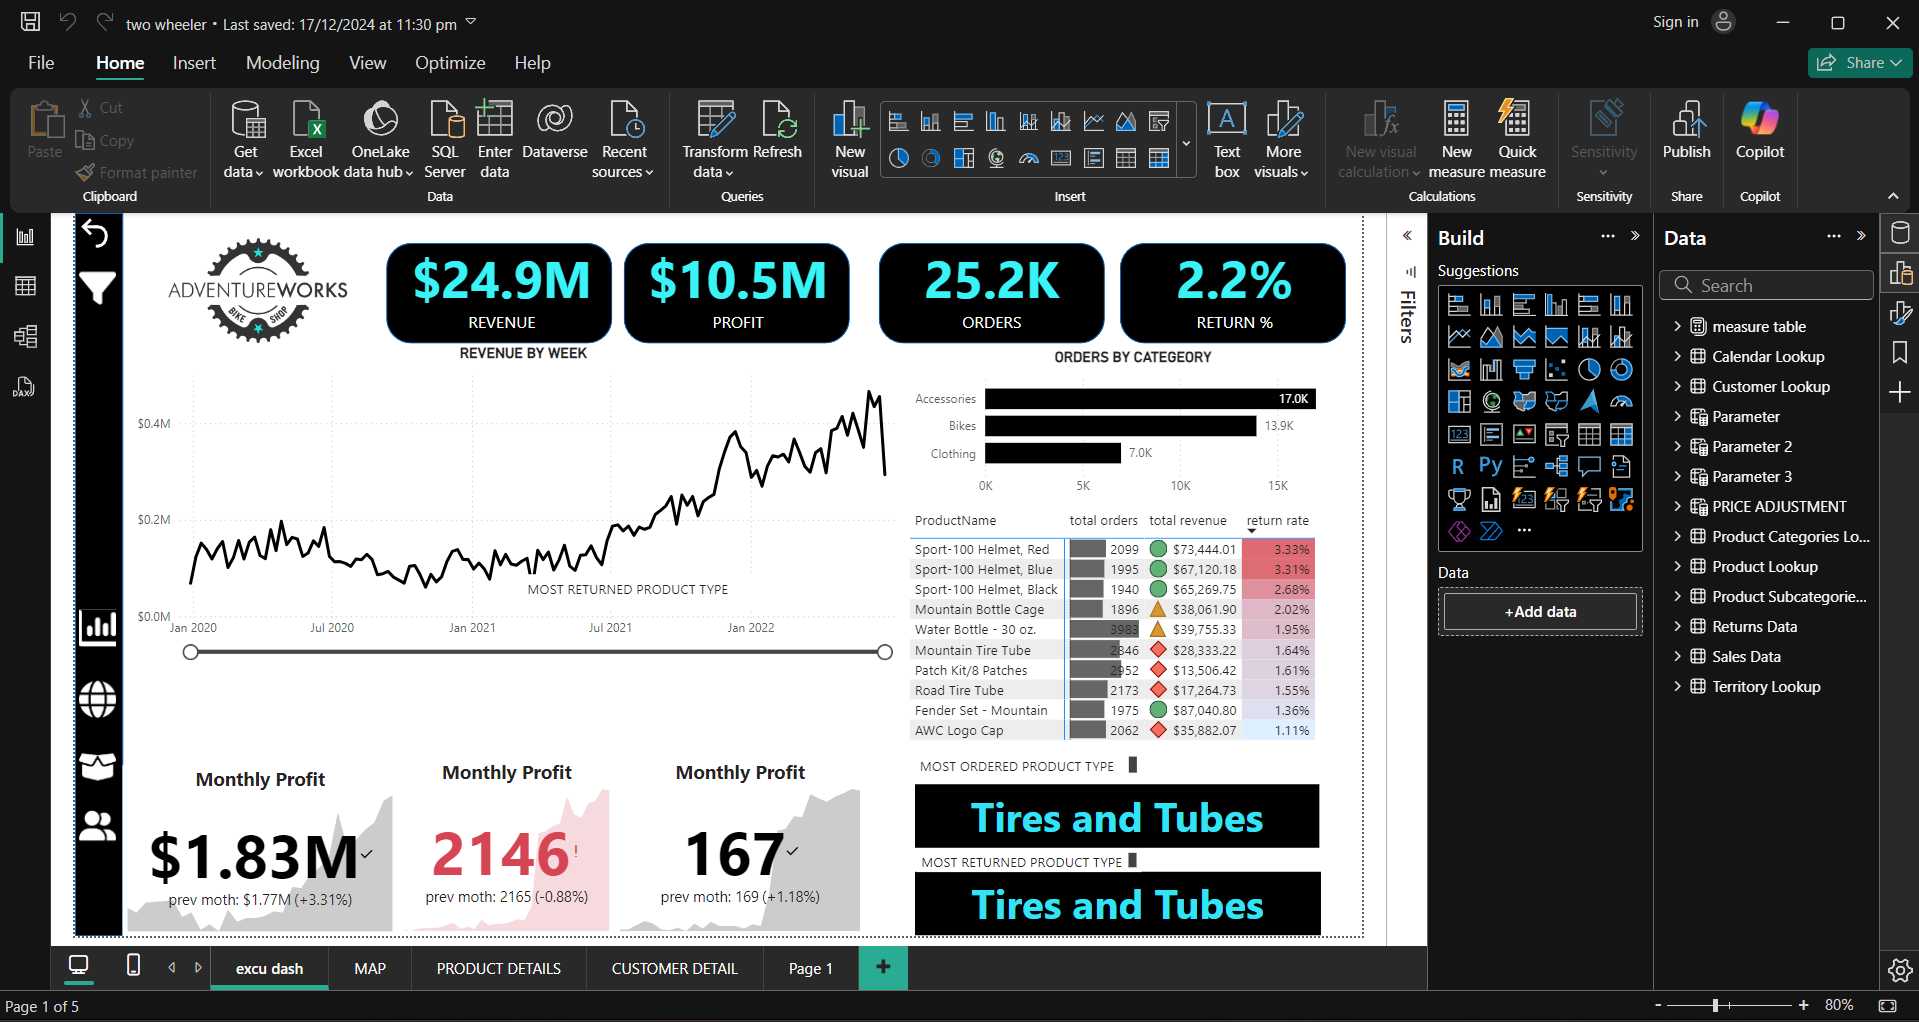

Layout of this report page (visuals, bound fields, positions):
{"tool":"powerbi","page":{"name":"excu dash","canvas":[1280,720],"ordinal":0},"visuals":[{"type":"shape","box":[546.7,30,225,100],"z":0},{"type":"shape","box":[310,30,225,100],"z":1000},{"type":"shape","box":[800,30,225,100],"z":2000},{"type":"shape","box":[1040,30,225,100],"z":3000},{"type":"card","fields":{"Values":["measure table.total revenue"]},"box":[311.9,0,225.4,149.2],"z":4000},{"type":"card","fields":{"Values":["measure table.total profit"]},"box":[547.5,0,225.4,149.2],"z":5000},{"type":"card","fields":{"Values":["measure table.total orders"]},"box":[800,0,225.4,149.2],"z":6000},{"type":"card","fields":{"Values":["measure table.return rate"]},"box":[1042.4,0,223.7,149.2],"z":7000},{"type":"shape","box":[0,0,47.9,719.7],"z":8000},{"type":"image","box":[68.3,0,228.3,155],"z":9000},{"type":"lineChart","title":"REVENUE BY WEEK","fields":{"Category":["Calendar Lookup.Start of Week"],"Y":["measure table.total revenue"]},"box":[57.6,130.5,778,316.9],"z":10000},{"type":"clusteredBarChart","title":"ORDERS BY CATEGEORY","fields":{"Category":["Product Categories Lookup.CategoryName"],"Y":["measure table.total orders"]},"box":[825.4,133.9,454.2,155.9],"z":11000},{"type":"kpi","title":"Monthly Profit","fields":{"Indicator":["measure table.total revenue"],"TrendLine":["Calendar Lookup.Start of Month"],"Goal":["measure table.previous month revenue"]},"box":[47.6,549.7,274.1,170.2],"z":12000},{"type":"kpi","title":"Monthly Profit","fields":{"Goal":["measure table.Previous month orders"],"Indicator":["measure table.total orders"],"TrendLine":["Calendar Lookup.Start of Month"]},"box":[321.7,543.9,215,176],"z":13000},{"type":"kpi","title":"Monthly Profit","fields":{"TrendLine":["Calendar Lookup.Start of Month"],"Indicator":["measure table.total returns"],"Goal":["measure table.previous month returns"]},"box":[537.3,544.1,249.2,176.3],"z":14000},{"type":"pivotTable","fields":{"Rows":["Product Lookup.ProductName"],"Values":["measure table.total orders","measure table.total revenue","measure table.return rate"]},"box":[825.4,289.8,415.3,245.8],"z":15000},{"type":"card","fields":{"Values":["Min(Product Subcategories Lookup.SubcategoryName)"]},"box":[835.4,568.3,402.4,63.4],"z":16000},{"type":"card","fields":{"Values":["Min(Product Subcategories Lookup.SubcategoryName)"]},"box":[835.4,656.1,403.7,63.4],"z":17000},{"type":"textbox","box":[835.4,536.6,225.6,26.8],"z":18000},{"type":"textbox","box":[445.1,359.8,265.9,34.1],"z":19000},{"type":"textbox","box":[836.6,632.4,223.9,23.9],"z":20000},{"type":"actionButton","box":[0,0,47.9,39.4],"z":21000},{"type":"actionButton","box":[0,52.1,47.9,45.1],"z":22000},{"type":"actionButton","box":[0,462,47.9,45.1],"z":23000},{"type":"actionButton","box":[0,390.1,47.9,45.1],"z":24000},{"type":"actionButton","box":[0,587.3,47.9,45.1],"z":25000},{"type":"actionButton","box":[0,528.2,47.9,45.1],"z":26000}]}

Visuals, with their boxes on the page's 1280x720 design canvas (x1, y1, x2, y2). These are canvas units, not pixel positions in the 1919x1022 screenshot, which may show the page scaled, cropped or inside an application window:
shape: <bbox>547, 30, 772, 130</bbox>
shape: <bbox>310, 30, 535, 130</bbox>
shape: <bbox>800, 30, 1025, 130</bbox>
shape: <bbox>1040, 30, 1265, 130</bbox>
card - measure table.total revenue: <bbox>312, 0, 537, 149</bbox>
card - measure table.total profit: <bbox>548, 0, 773, 149</bbox>
card - measure table.total orders: <bbox>800, 0, 1025, 149</bbox>
card - measure table.return rate: <bbox>1042, 0, 1266, 149</bbox>
shape: <bbox>0, 0, 48, 720</bbox>
image: <bbox>68, 0, 297, 155</bbox>
"REVENUE BY WEEK" lineChart: <bbox>58, 130, 836, 447</bbox>
"ORDERS BY CATEGEORY" clusteredBarChart: <bbox>825, 134, 1280, 290</bbox>
"Monthly Profit" kpi: <bbox>48, 550, 322, 720</bbox>
"Monthly Profit" kpi: <bbox>322, 544, 537, 720</bbox>
"Monthly Profit" kpi: <bbox>537, 544, 786, 720</bbox>
pivotTable - Product Lookup.ProductName x measure table.total orders: <bbox>825, 290, 1241, 536</bbox>
card - Min(Product Subcategories Lookup.SubcategoryName): <bbox>835, 568, 1238, 632</bbox>
card - Min(Product Subcategories Lookup.SubcategoryName): <bbox>835, 656, 1239, 720</bbox>
textbox: <bbox>835, 537, 1061, 563</bbox>
textbox: <bbox>445, 360, 711, 394</bbox>
textbox: <bbox>837, 632, 1060, 656</bbox>
actionButton: <bbox>0, 0, 48, 39</bbox>
actionButton: <bbox>0, 52, 48, 97</bbox>
actionButton: <bbox>0, 462, 48, 507</bbox>
actionButton: <bbox>0, 390, 48, 435</bbox>
actionButton: <bbox>0, 587, 48, 632</bbox>
actionButton: <bbox>0, 528, 48, 573</bbox>
